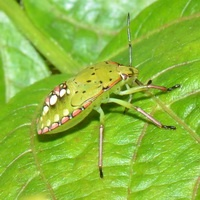insect: (31, 0, 199, 199), (98, 28, 127, 64)
